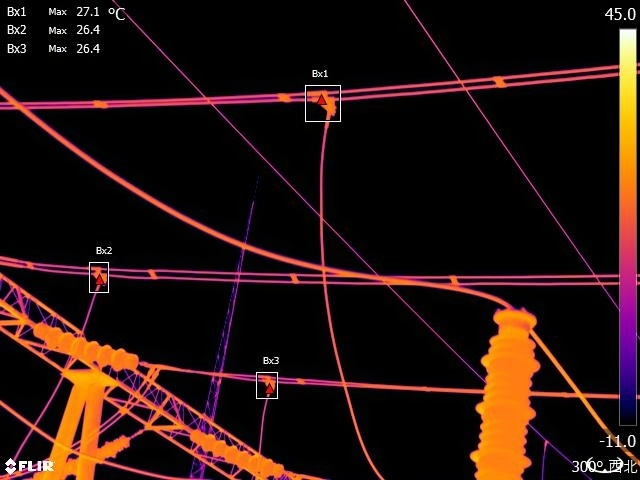clamp: (311, 86, 343, 123), (89, 260, 114, 289), (255, 368, 280, 394)
insulator: (29, 318, 139, 374), (186, 422, 277, 475), (43, 429, 132, 480)
post insulator: (460, 302, 543, 480)
